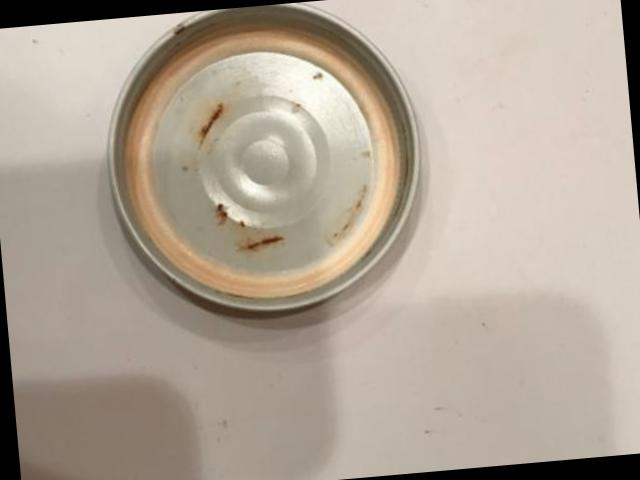metal: (109, 1, 419, 307)
